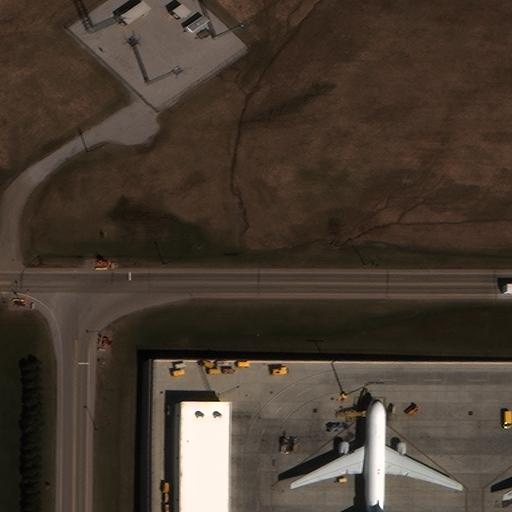Large Civil Transport: (290, 396, 461, 511)
